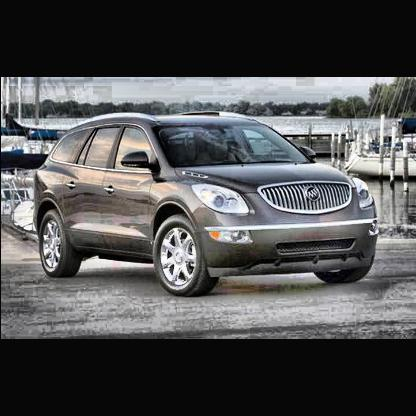Buick Enclave SUV 2012: (32, 110, 380, 298)
